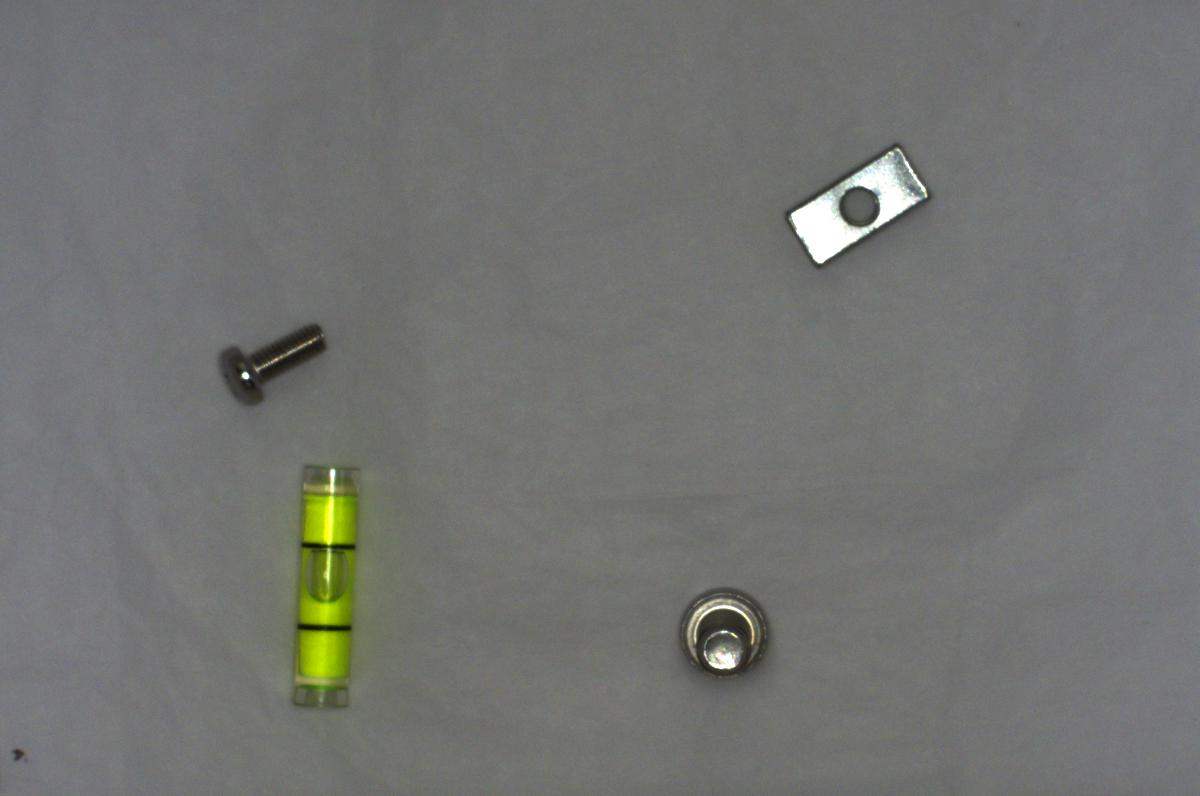Hexagon screw: (670, 585, 771, 683)
Horizontal bubble: (286, 449, 364, 716)
Rectangular nut: (768, 133, 927, 267)
Round head screw: (205, 314, 334, 413)
